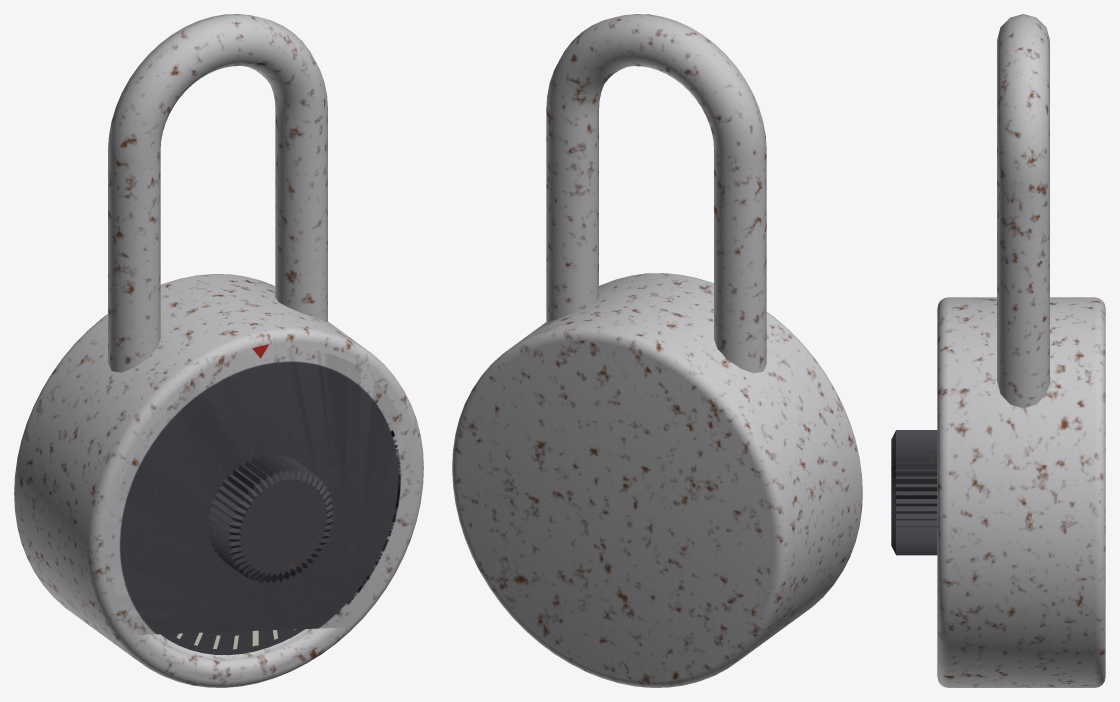
Rendered from DialLock_Round.fbx.
3 views of the same model, side by side, from view 1: azimuth 30°, elevation 25°; view 2: azimuth 150°, elevation 25°; view 3: azimuth 270°, elevation 25° (orthographic).
Parts seen in each view (by area): view 1: DialLock_Round_Body, DialLock_Round_Shackle, DialLock_Round_Dial; view 2: DialLock_Round_Body, DialLock_Round_Shackle; view 3: DialLock_Round_Body, DialLock_Round_Shackle, DialLock_Round_Dial.
Part boxes in pixels (bbox=[...]): DialLock_Round_Body: bbox=[14, 274, 423, 687]; DialLock_Round_Shackle: bbox=[108, 14, 327, 372]; DialLock_Round_Dial: bbox=[161, 454, 334, 654]; DialLock_Round_Body: bbox=[452, 273, 862, 687]; DialLock_Round_Shackle: bbox=[546, 14, 766, 373]; DialLock_Round_Body: bbox=[937, 297, 1105, 687]; DialLock_Round_Shackle: bbox=[997, 14, 1049, 408]; DialLock_Round_Dial: bbox=[891, 430, 937, 555].
Size of the model in its own units: 0.05 by 0.0909 by 0.0274.
Materials: 1 (1 with a texture image).
